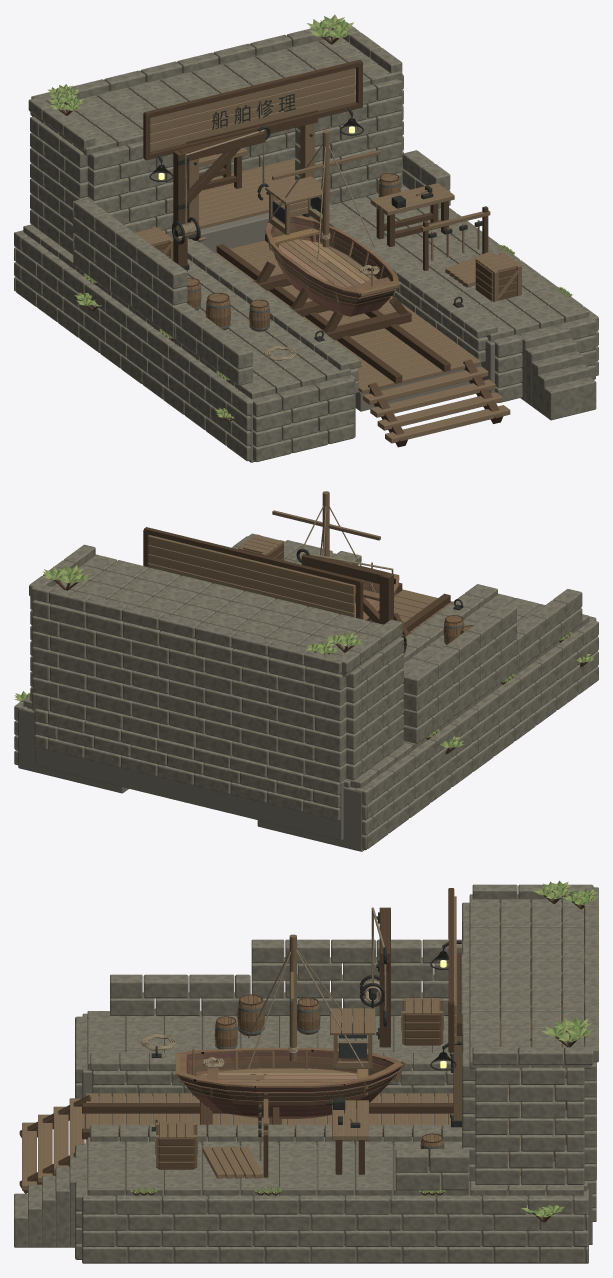
File: shipyard_a.glb
3 renders of one model, top to bottom at view 1: azimuth 30°, elevation 25°; view 2: azimuth 150°, elevation 25°; view 3: azimuth 270°, elevation 25°, orthographic. The views are drawn at different scales.
Visible parts, largest first — view 1: ShipyardA_HarborCraft_Terminal_Stone, ShipyardA_HarborCraft_TerminalTimber_deck, ShipyardA_HarborCraft_TerminalTimber_frame, ShipyardA_BoatWood_Lit, ShipyardA_HarborCraft_TerminalTimber_trim, ShipyardA_Shipyard_AgedMortar, ShipyardA_HarborCraft_Joinery_barrel, ShipyardA_HarborCraft_CraneForgedIron, ShipyardA_HarborCraft_Hemp, ShipyardA_Shipyard_SageLeaf, ShipyardA_HarborCraft_TerminalTimber_cargo_frame, ShipyardA_Shipyard_SaltBush (+1 smaller); view 2: ShipyardA_HarborCraft_Terminal_Stone, ShipyardA_Shipyard_AgedMortar, ShipyardA_HarborCraft_TerminalTimber_deck, ShipyardA_HarborCraft_TerminalTimber_frame, ShipyardA_Shipyard_SageLeaf, ShipyardA_HarborCraft_TerminalTimber_trim, ShipyardA_Shipyard_SaltBush, ShipyardA_HarborCraft_Hemp, ShipyardA_BoatWood_Lit; view 3: ShipyardA_HarborCraft_Terminal_Stone, ShipyardA_HarborCraft_TerminalTimber_deck, ShipyardA_BoatWood_Lit, ShipyardA_HarborCraft_TerminalTimber_frame, ShipyardA_Shipyard_AgedMortar, ShipyardA_HarborCraft_TerminalTimber_trim, ShipyardA_HarborCraft_TerminalTimber_cargo_frame, ShipyardA_HarborCraft_Joinery_barrel, ShipyardA_HarborCraft_Hemp, ShipyardA_HarborCraft_CraneForgedIron, ShipyardA_Shipyard_SageLeaf, ShipyardA_Shipyard_SaltBush (+1 smaller).
Part boxes in pixels (left/top/right/bottom): ShipyardA_HarborCraft_Terminal_Stone: left=14, top=22, right=598, bottom=461; ShipyardA_HarborCraft_TerminalTimber_deck: left=135, top=68, right=520, bottom=443; ShipyardA_HarborCraft_TerminalTimber_frame: left=57, top=27, right=503, bottom=447; ShipyardA_BoatWood_Lit: left=265, top=215, right=399, bottom=316; ShipyardA_HarborCraft_TerminalTimber_trim: left=151, top=123, right=521, bottom=301; ShipyardA_Shipyard_AgedMortar: left=25, top=212, right=594, bottom=462; ShipyardA_HarborCraft_Joinery_barrel: left=186, top=174, right=400, bottom=331; ShipyardA_HarborCraft_CraneForgedIron: left=149, top=108, right=483, bottom=341; ShipyardA_HarborCraft_Hemp: left=175, top=129, right=379, bottom=360; ShipyardA_Shipyard_SageLeaf: left=48, top=14, right=572, bottom=418; ShipyardA_HarborCraft_TerminalTimber_cargo_frame: left=152, top=241, right=521, bottom=301; ShipyardA_Shipyard_SaltBush: left=49, top=16, right=571, bottom=417; ShipyardA_HarborCraft_Terminal_Stone: left=14, top=533, right=598, bottom=850; ShipyardA_Shipyard_AgedMortar: left=18, top=631, right=578, bottom=851; ShipyardA_HarborCraft_TerminalTimber_deck: left=148, top=535, right=452, bottom=632; ShipyardA_HarborCraft_TerminalTimber_frame: left=54, top=527, right=587, bottom=754; ShipyardA_Shipyard_SageLeaf: left=14, top=565, right=593, bottom=747; ShipyardA_HarborCraft_TerminalTimber_trim: left=238, top=491, right=380, bottom=557; ShipyardA_Shipyard_SaltBush: left=15, top=565, right=593, bottom=747; ShipyardA_HarborCraft_Hemp: left=295, top=505, right=393, bottom=592; ShipyardA_BoatWood_Lit: left=355, top=562, right=399, bottom=622; ShipyardA_HarborCraft_Terminal_Stone: left=14, top=884, right=598, bottom=1263; ShipyardA_HarborCraft_TerminalTimber_deck: left=22, top=896, right=566, bottom=1190; ShipyardA_BoatWood_Lit: left=175, top=1048, right=405, bottom=1118; ShipyardA_HarborCraft_TerminalTimber_frame: left=19, top=888, right=589, bottom=1222; ShipyardA_Shipyard_AgedMortar: left=82, top=1020, right=592, bottom=1263; ShipyardA_HarborCraft_TerminalTimber_trim: left=155, top=934, right=566, bottom=1167; ShipyardA_HarborCraft_TerminalTimber_cargo_frame: left=157, top=999, right=566, bottom=1169; ShipyardA_HarborCraft_Joinery_barrel: left=214, top=995, right=562, bottom=1166; ShipyardA_HarborCraft_Hemp: left=141, top=907, right=386, bottom=1068; ShipyardA_HarborCraft_CraneForgedIron: left=151, top=912, right=531, bottom=1136; ShipyardA_Shipyard_SageLeaf: left=130, top=881, right=597, bottom=1216; ShipyardA_Shipyard_SaltBush: left=131, top=880, right=597, bottom=1216.
Bounding box in the file's own units: 9.8 × 5.26 × 11.77.
Materials: 17 (10 with a texture image).
